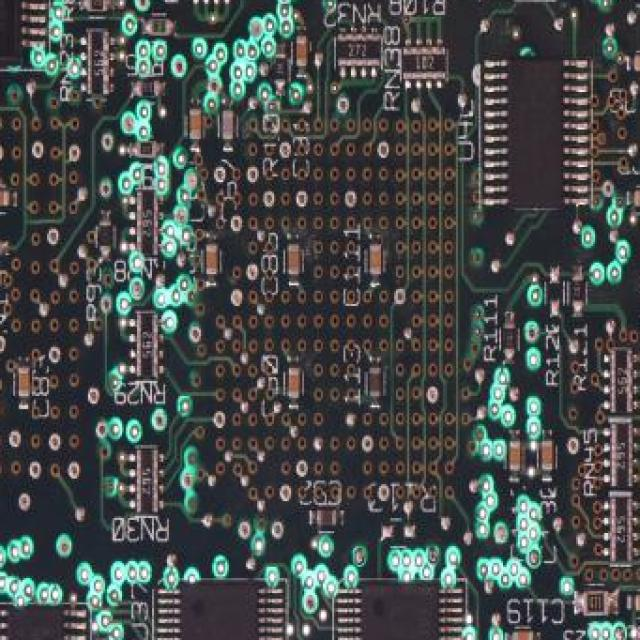IC: (507, 54, 567, 210), (178, 578, 263, 640), (358, 580, 443, 640), (3, 604, 68, 640), (0, 0, 24, 69), (507, 0, 567, 2)
capacitor: (204, 240, 220, 277), (540, 437, 556, 473), (315, 507, 340, 530), (287, 242, 302, 279), (368, 242, 383, 279), (17, 364, 32, 401), (368, 364, 383, 400), (294, 32, 308, 69), (222, 107, 236, 144), (508, 437, 522, 474), (190, 107, 204, 143), (287, 364, 301, 400), (510, 628, 534, 640), (0, 187, 9, 208), (632, 53, 640, 73), (632, 188, 640, 208), (634, 591, 640, 612)
resistor: (608, 495, 634, 565), (608, 347, 634, 417), (608, 422, 634, 492), (86, 28, 112, 97), (135, 449, 161, 517), (135, 190, 161, 258), (135, 312, 161, 380), (402, 43, 446, 82), (336, 32, 381, 70), (582, 590, 611, 618), (570, 272, 586, 309), (98, 220, 114, 256), (135, 139, 160, 162), (135, 79, 161, 101), (503, 321, 518, 358), (146, 17, 171, 39), (274, 51, 289, 87), (84, 0, 107, 13), (0, 236, 4, 259)
